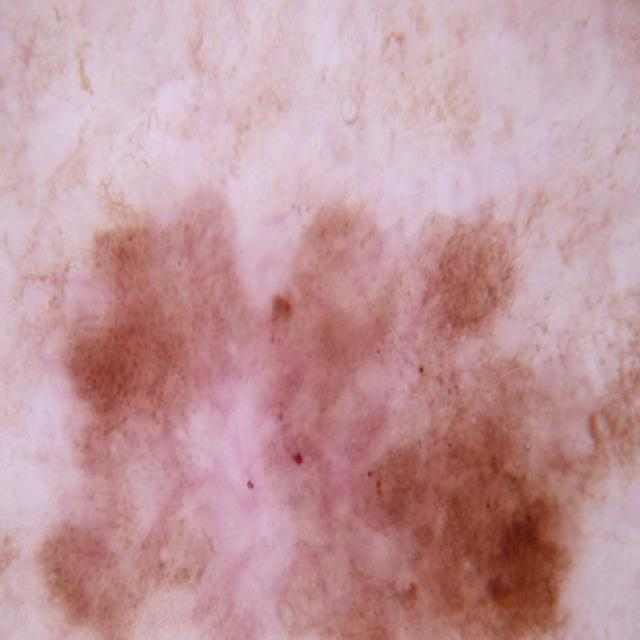Carcinoma: (23, 190, 588, 640)
